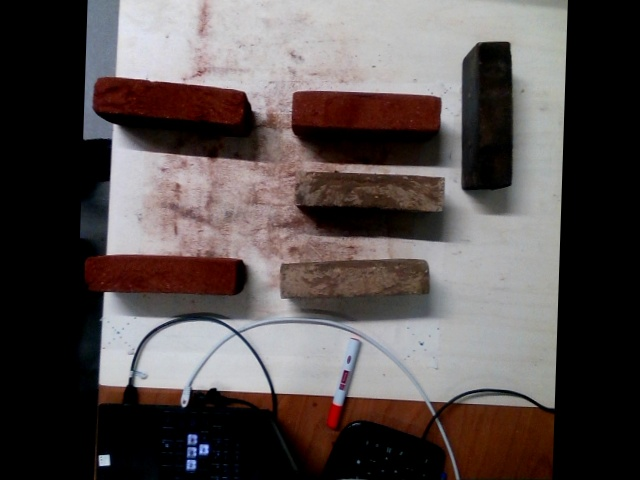brick-side: (95, 76, 246, 122), (292, 90, 442, 128), (280, 263, 430, 300), (297, 172, 447, 209), (86, 256, 235, 292), (478, 42, 512, 183)
